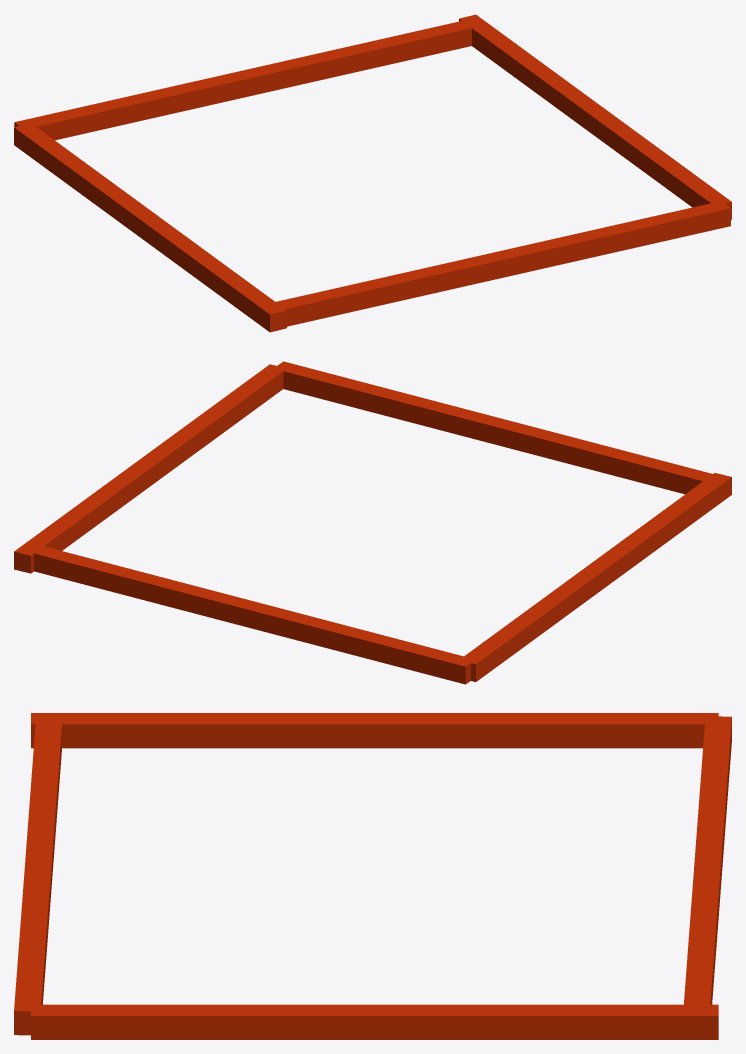
Rendered from FlatGround.obj.
3 views of the same model, one above another, from view 1: azimuth 30°, elevation 25°; view 2: azimuth 150°, elevation 25°; view 3: azimuth 270°, elevation 25° (orthographic). The views are drawn at different scales.
Visible parts, largest first — view 1: Cube.002_Cube.010, Cube.001_Cube.009, Cube.006_Cube.008, Cube.004_Cube.006; view 2: Cube.001_Cube.009, Cube.002_Cube.010, Cube.006_Cube.008, Cube.004_Cube.006; view 3: Cube.004_Cube.006, Cube.006_Cube.008, Cube.002_Cube.010, Cube.001_Cube.009.
Part boxes in pixels (<box>): Cube.002_Cube.010: <box>276,203,730,326</box>; Cube.001_Cube.009: <box>14,20,474,140</box>; Cube.006_Cube.008: <box>14,123,286,332</box>; Cube.004_Cube.006: <box>459,14,731,219</box>; Cube.001_Cube.009: <box>34,546,474,684</box>; Cube.002_Cube.010: <box>274,361,712,494</box>; Cube.006_Cube.008: <box>459,473,731,681</box>; Cube.004_Cube.006: <box>14,364,285,573</box>; Cube.004_Cube.006: <box>31,1004,718,1039</box>; Cube.006_Cube.008: <box>31,713,718,748</box>; Cube.002_Cube.010: <box>14,721,61,1035</box>; Cube.001_Cube.009: <box>683,716,731,1006</box>.
Size of what is drawn, in the model's own units: 54 by 2 by 54.11.
